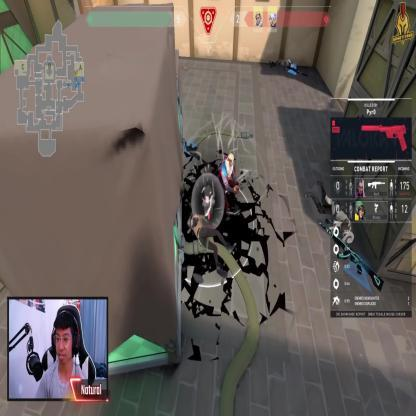enemy: (219, 152, 240, 216)
enemy_head: (227, 153, 234, 168)
